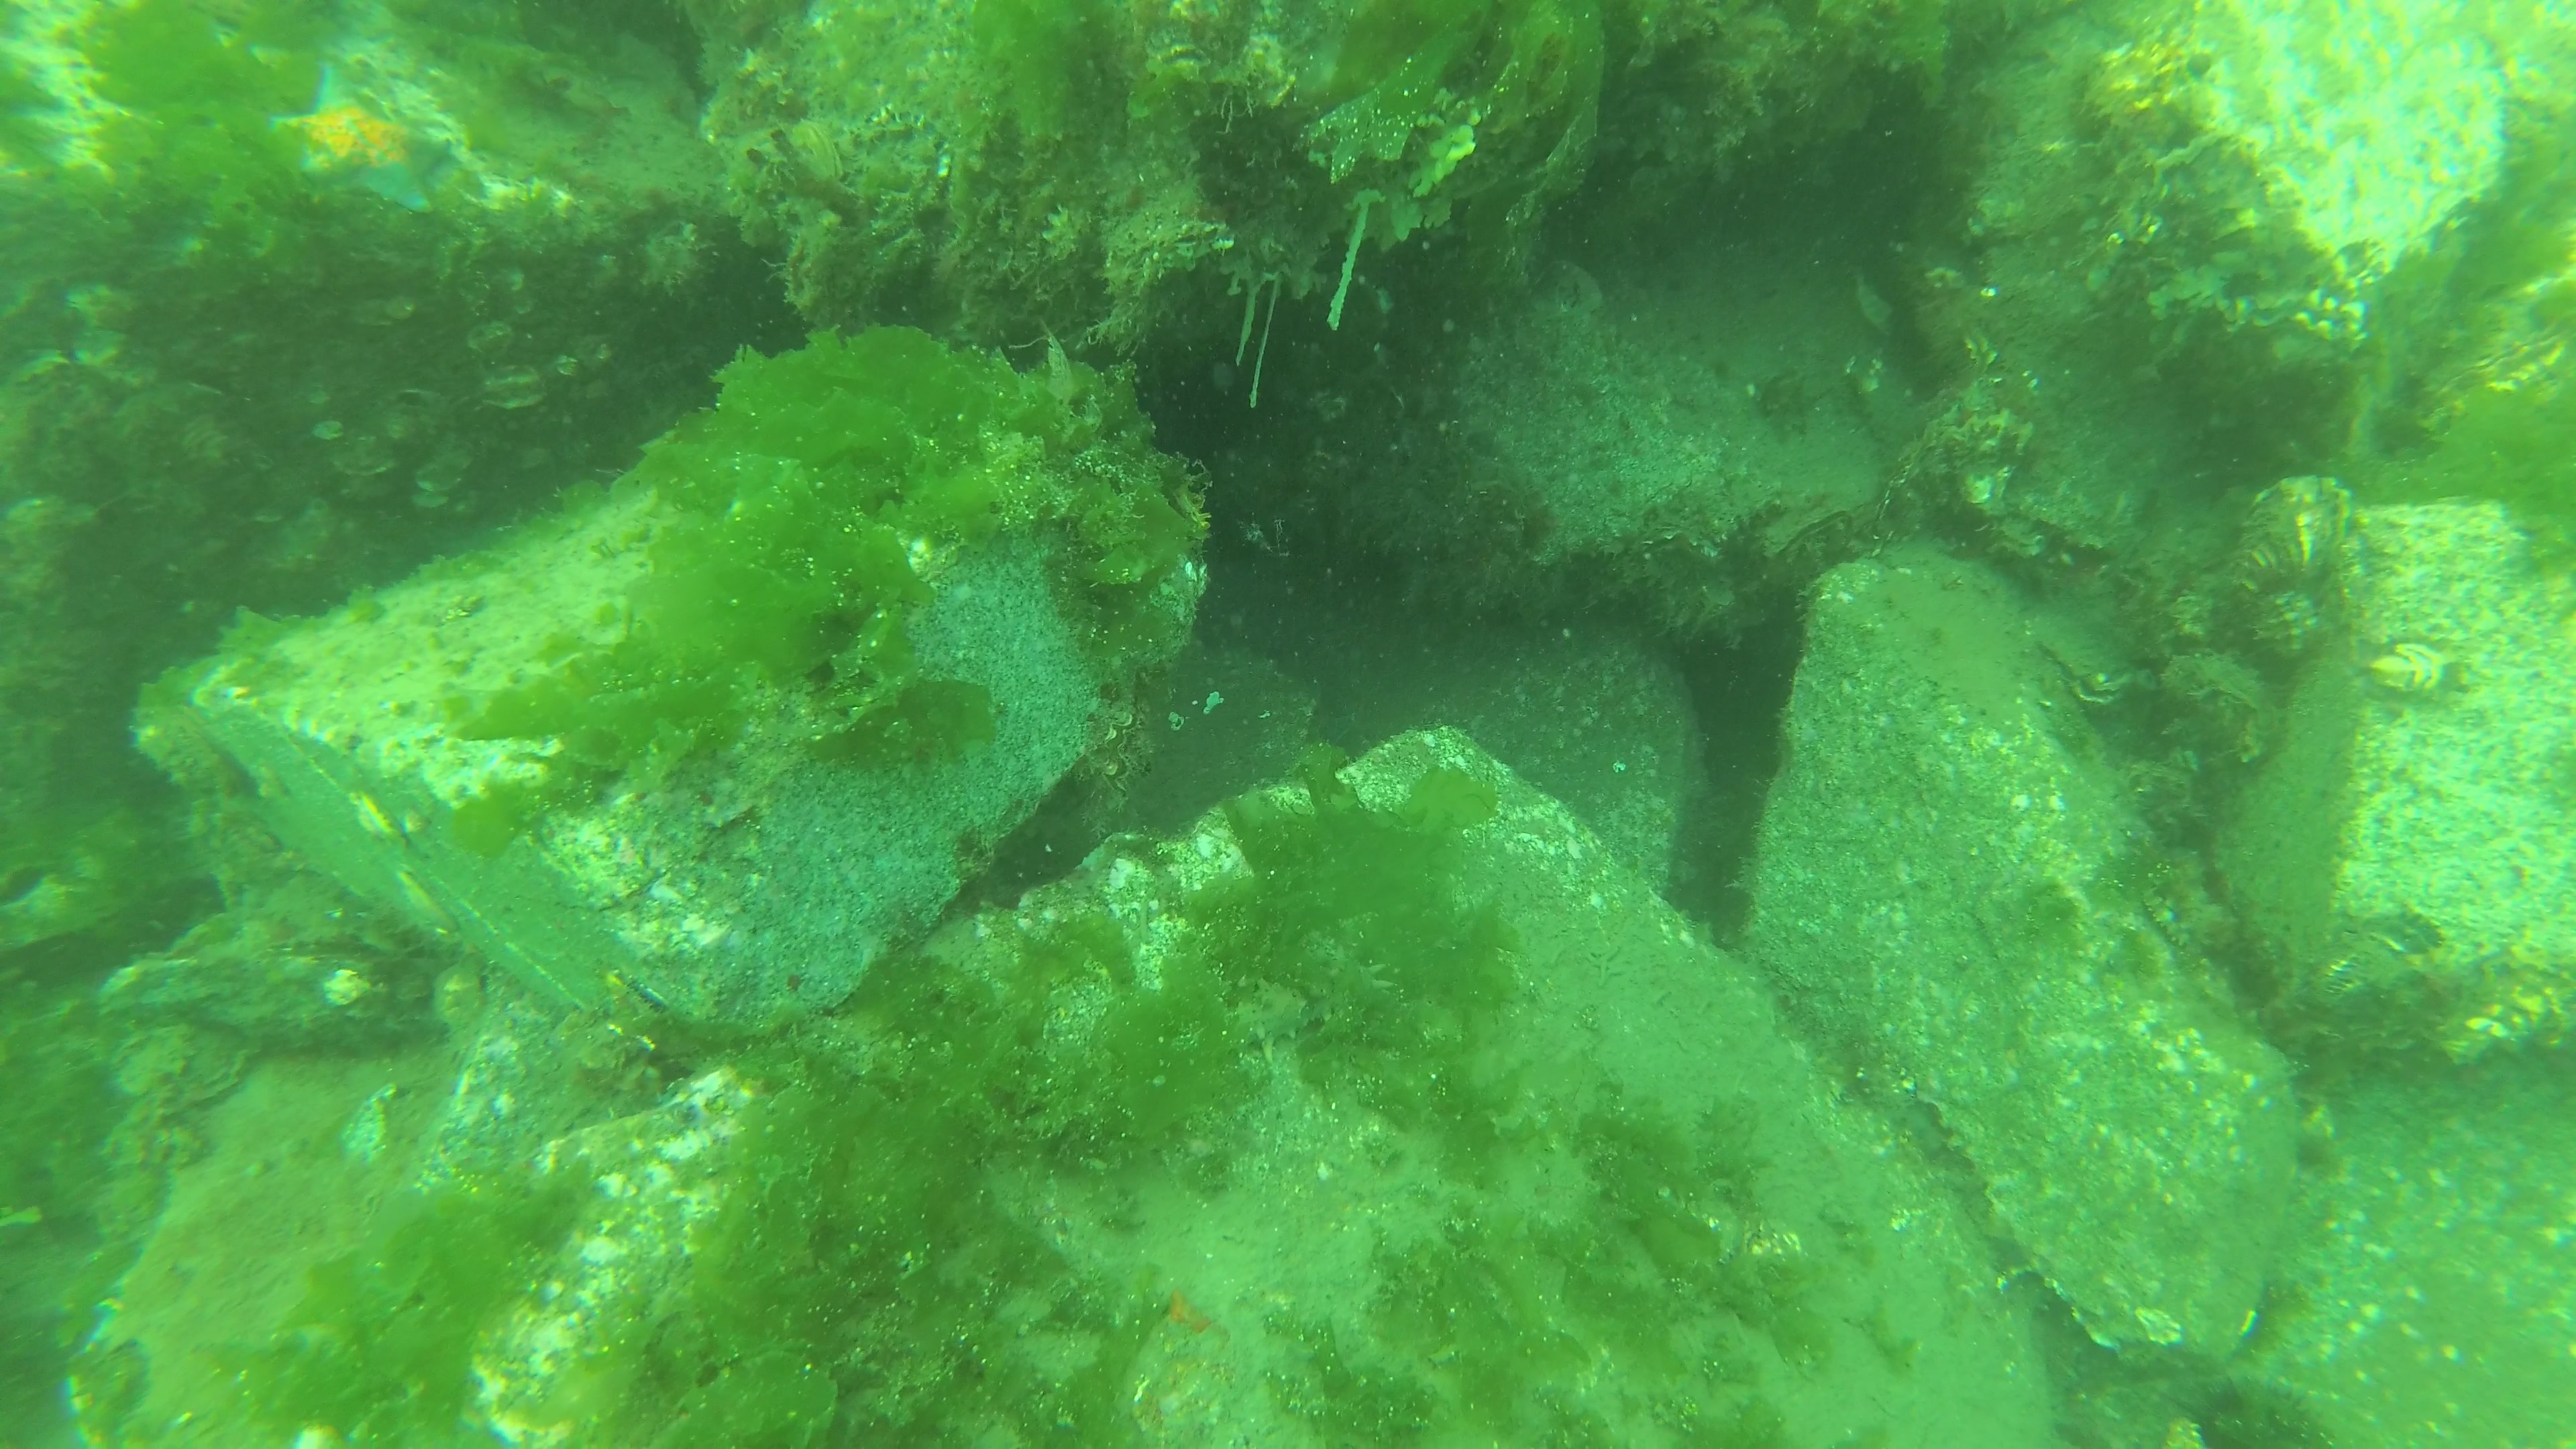starfish: (265, 65, 455, 221)
